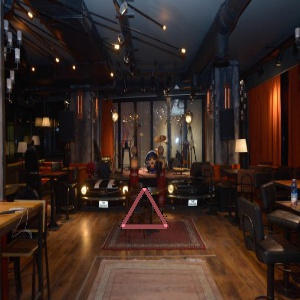triangle: (119, 185, 171, 233)
